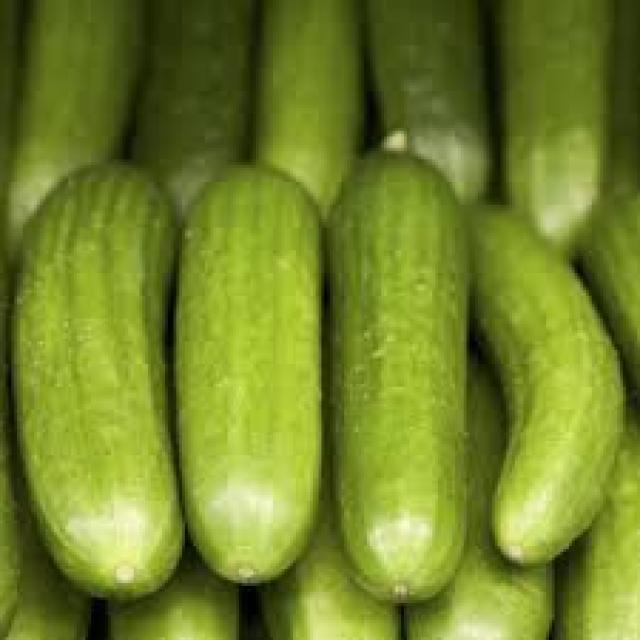cucumber: (9, 157, 188, 600), (328, 146, 470, 606), (173, 157, 328, 578), (467, 201, 626, 564)
